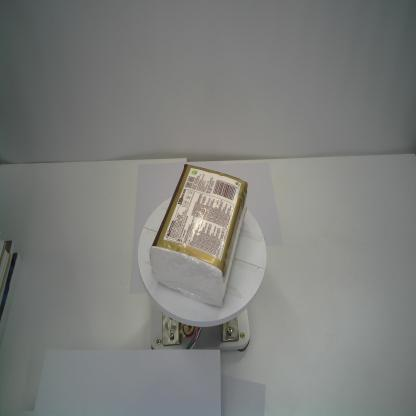Tissue: (148, 162, 249, 308)
